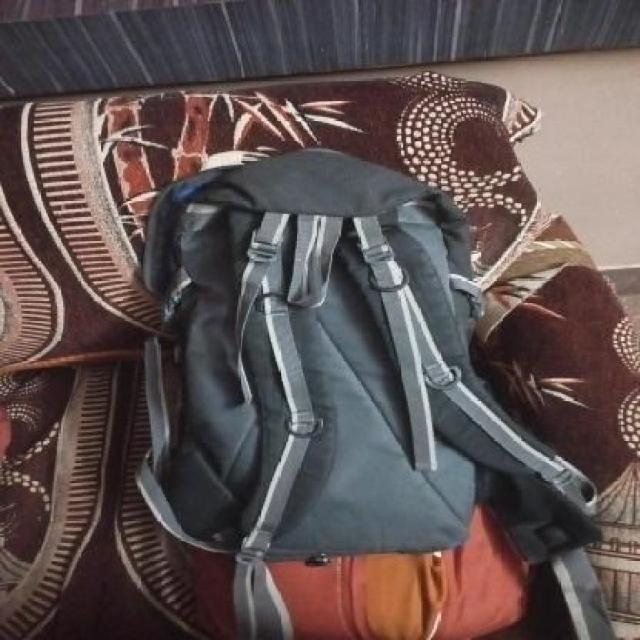backpack: (134, 144, 494, 570)
